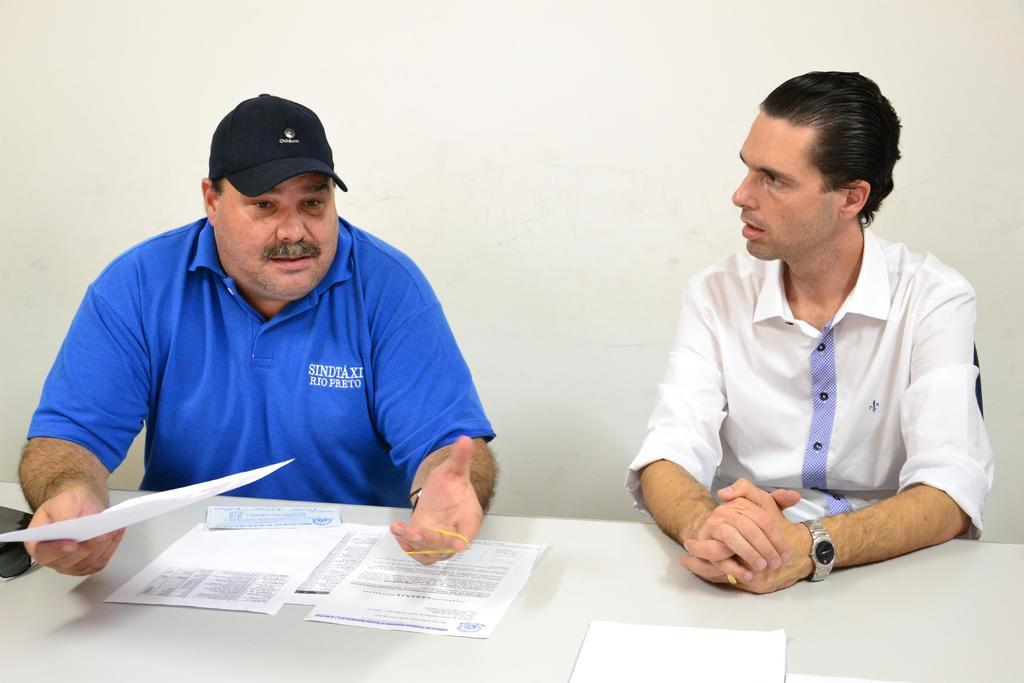Hat: (208, 89, 349, 192)
